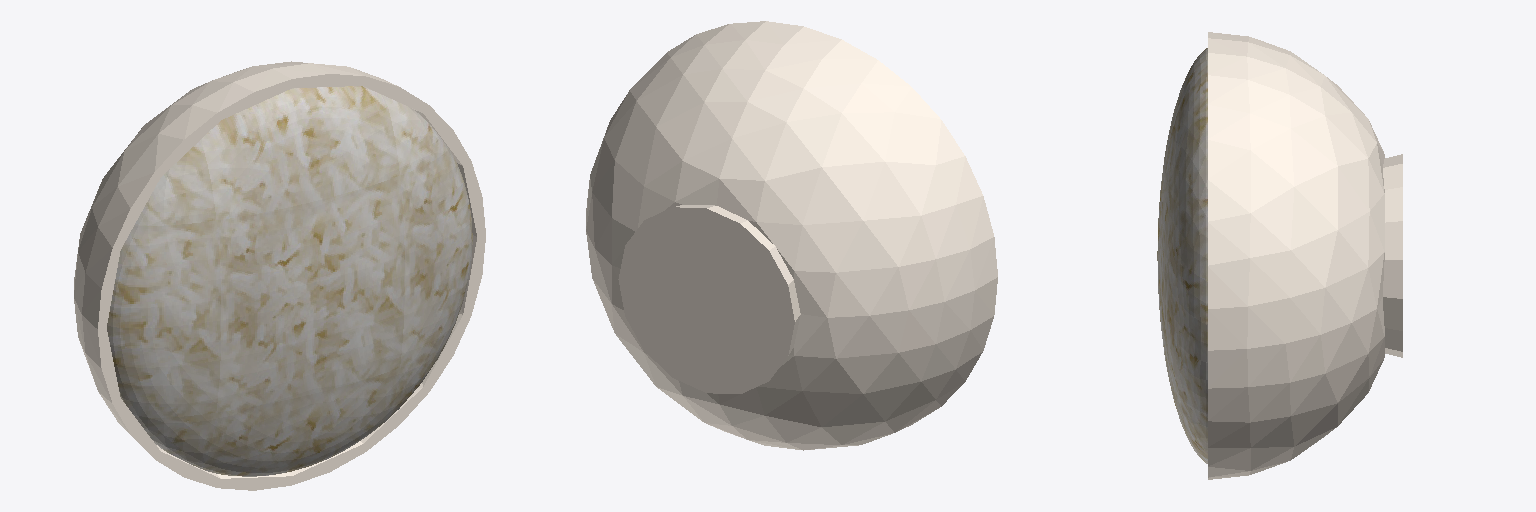
3 renders of one model, left to right at view 1: azimuth 30°, elevation 25°; view 2: azimuth 150°, elevation 25°; view 3: azimuth 270°, elevation 25°, orthographic.
Visible parts, largest first — view 1: bolDeRiz; view 2: bolDeRiz; view 3: bolDeRiz.
Boxes of the visible parts, <box> form: bolDeRiz: <box>74,61,485,490</box>; bolDeRiz: <box>586,21,997,450</box>; bolDeRiz: <box>1157,32,1402,479</box>.
Bounding box in the file's own units: 2.2 × 2.2 × 1.2.
Materials: 2 (1 with a texture image).